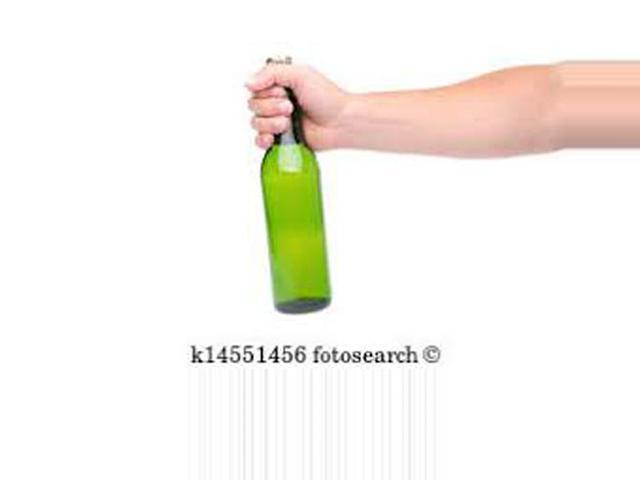beer: (261, 58, 332, 314)
